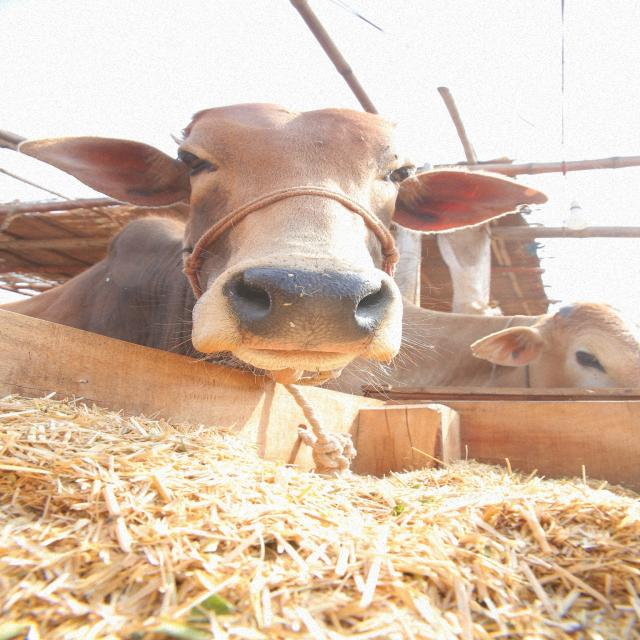muzzles: (235, 260, 390, 358)
